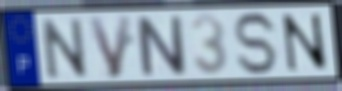3: (190, 11, 228, 79)
N: (133, 14, 190, 78), (38, 16, 91, 82), (279, 12, 331, 74)
S: (232, 10, 281, 77)
V: (85, 13, 134, 81)
